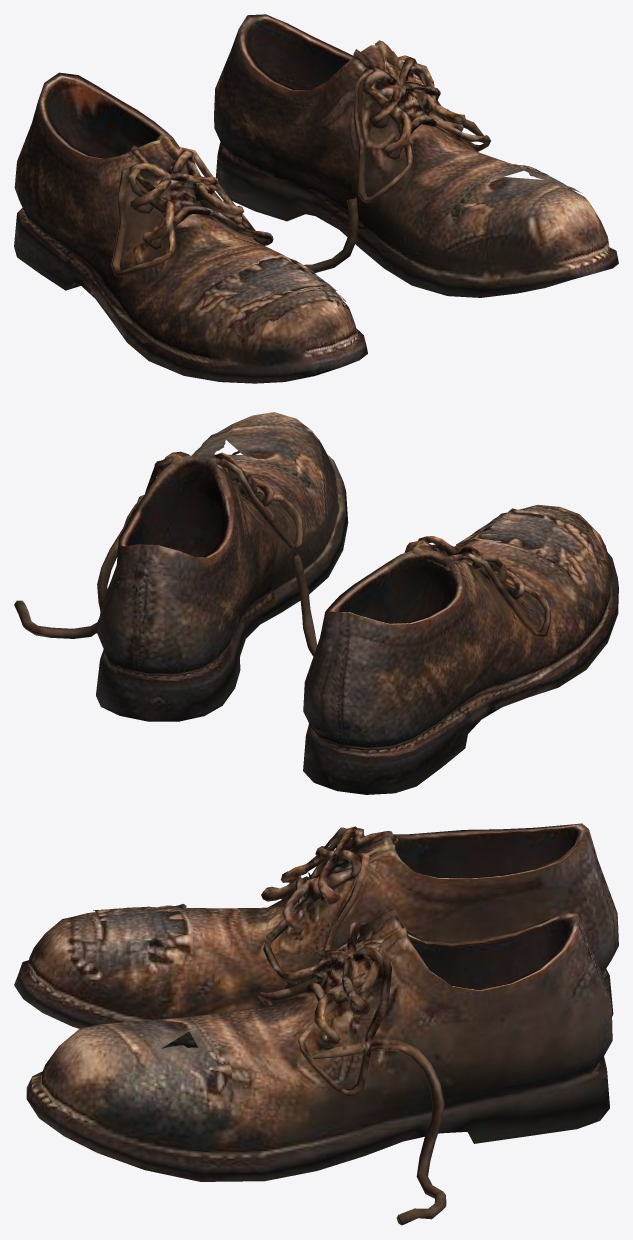
File: act1-a22-1-worn-shoes.glb
3 views of the same model, one above another, from view 1: azimuth 30°, elevation 25°; view 2: azimuth 150°, elevation 25°; view 3: azimuth 270°, elevation 25° (orthographic). The views are drawn at different scales.
Parts seen in each view (by area): view 1: act1-a22-1-worn-shoes; view 2: act1-a22-1-worn-shoes; view 3: act1-a22-1-worn-shoes.
Part boxes in pixels (x1=…): act1-a22-1-worn-shoes: x1=14, y1=14, x2=618, y2=383; act1-a22-1-worn-shoes: x1=14, y1=412, x2=618, y2=794; act1-a22-1-worn-shoes: x1=14, y1=823, x2=618, y2=1225.
Bounding box in the file's own units: 0.45 × 0.18 × 0.4393.
Materials: 1 (1 with a texture image).
